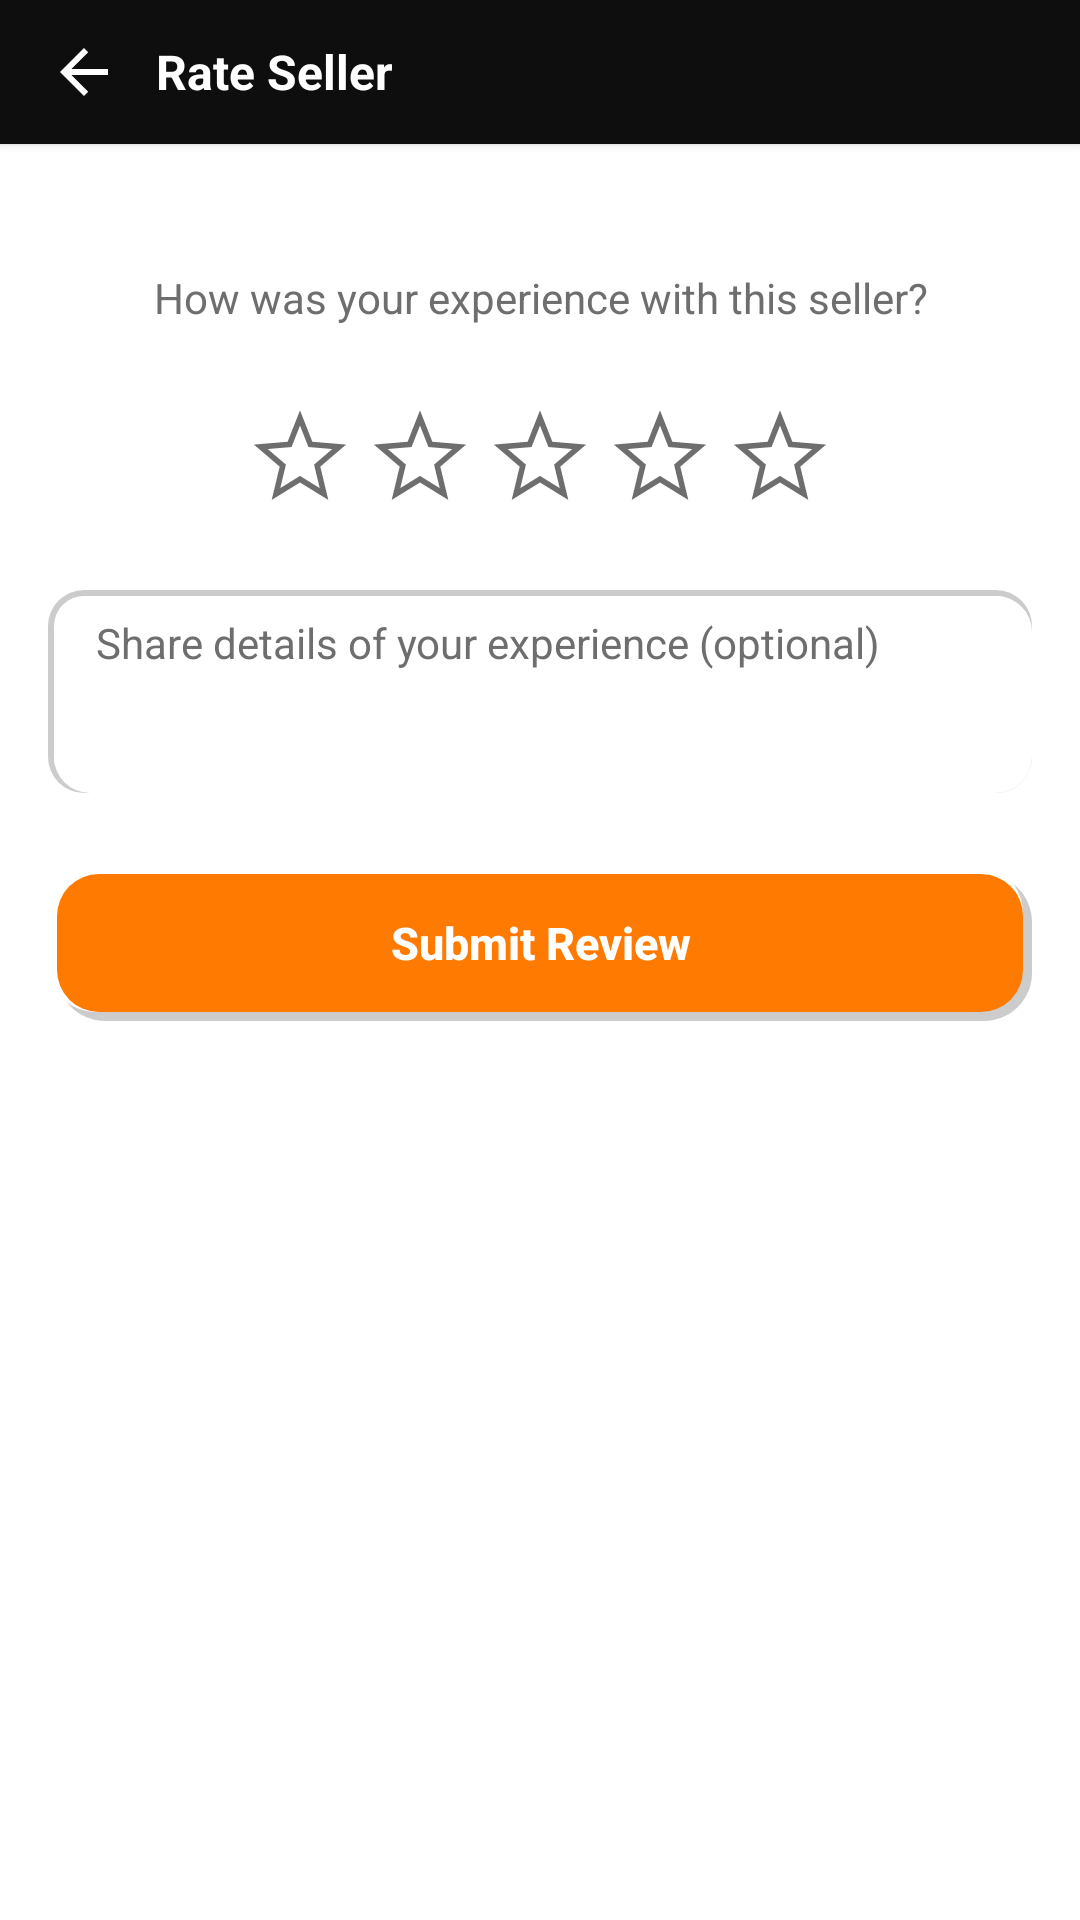

Point at icon controls on the screen. Image size 1080px x 1920px, points as (x,y).
Navigate back: (84,72)
star border: (300,455), (420,455), (540,455), (660,455), (780,455)
